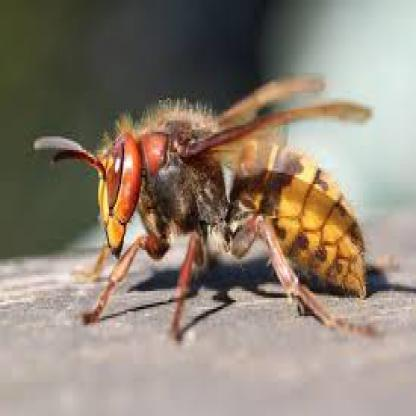european: (30, 75, 389, 364)
